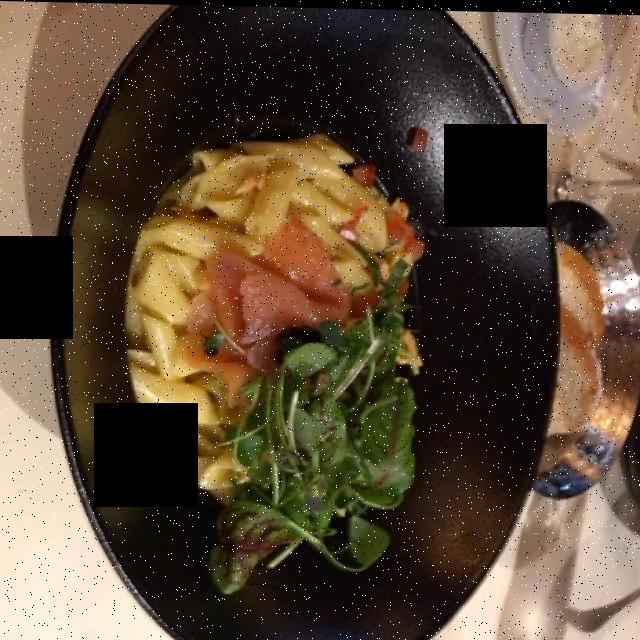pasta: (125, 147, 411, 480)
salad: (213, 323, 435, 586)
salmon: (213, 219, 360, 442)
